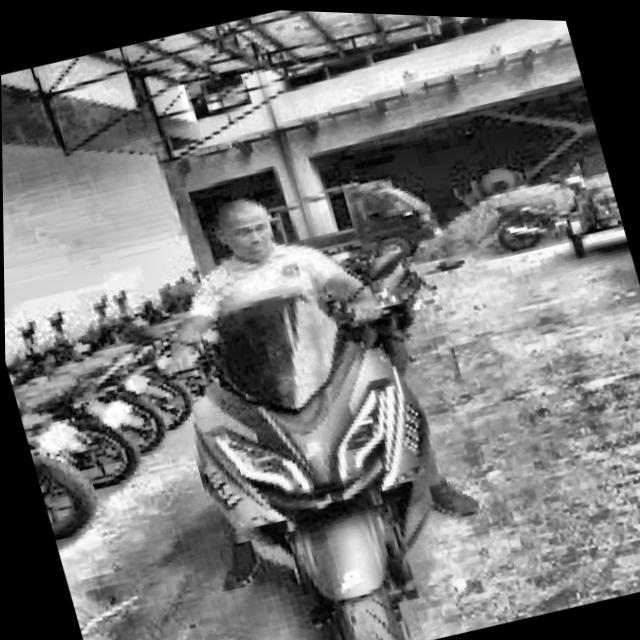motorcycle: (122, 212, 513, 640)
